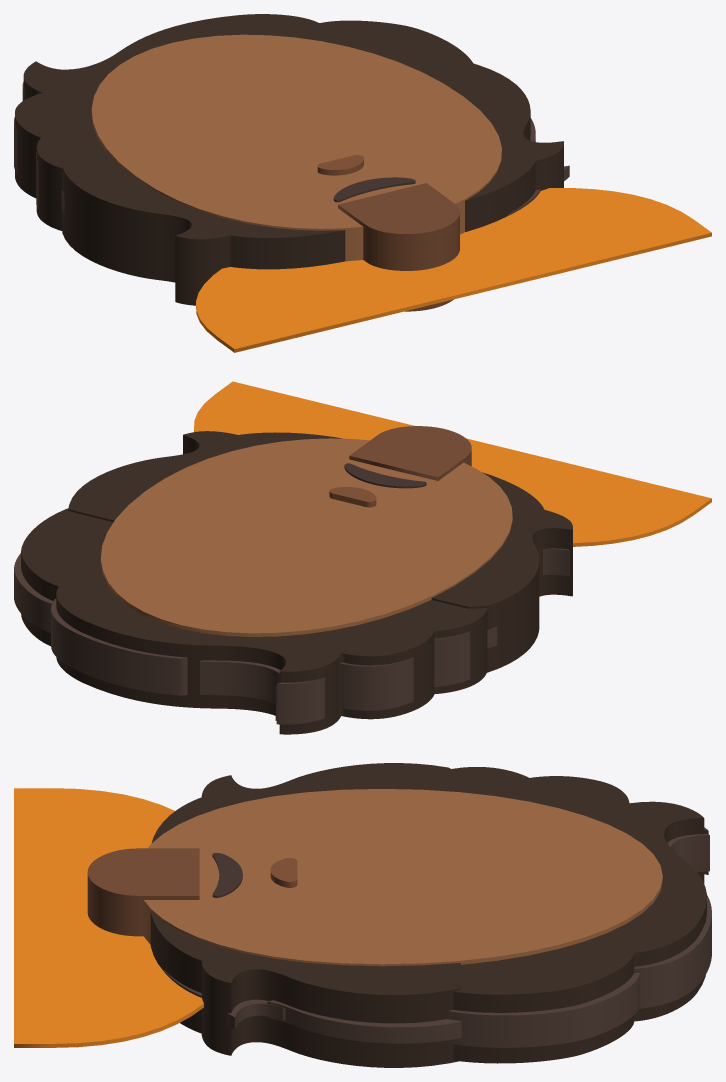
Rendered from emoji_u1f64d_1f3fe.glb.
The picture shows the model from 3 angles, top to bottom: view 1: azimuth 30°, elevation 25°; view 2: azimuth 150°, elevation 25°; view 3: azimuth 270°, elevation 25°; orthographic projection. The views are drawn at different scales.
Visible parts, largest first — view 1: emoji_u1f64d_1f3fe; view 2: emoji_u1f64d_1f3fe; view 3: emoji_u1f64d_1f3fe.
Part boxes in pixels (<box>): emoji_u1f64d_1f3fe: <box>14,14,711,352</box>; emoji_u1f64d_1f3fe: <box>14,381,711,734</box>; emoji_u1f64d_1f3fe: <box>14,763,711,1067</box>.
Bounding box in the file's own units: 0.0271 × 0.0044 × 0.0313.
